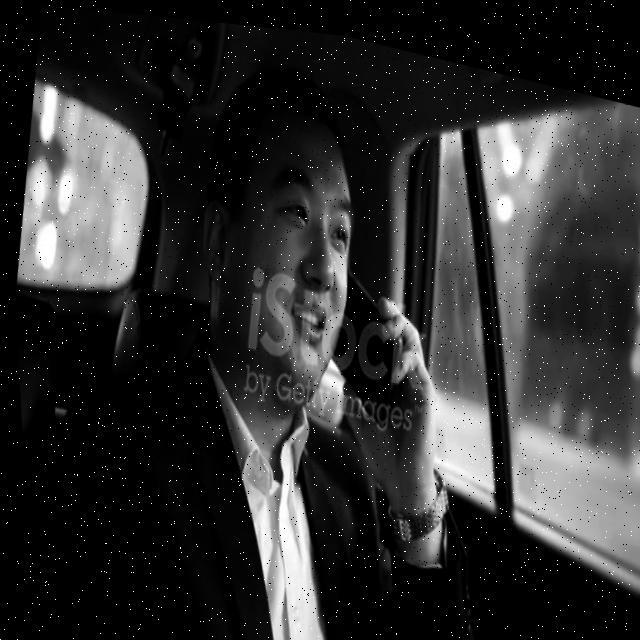PhoneCall: (322, 262, 413, 426)
